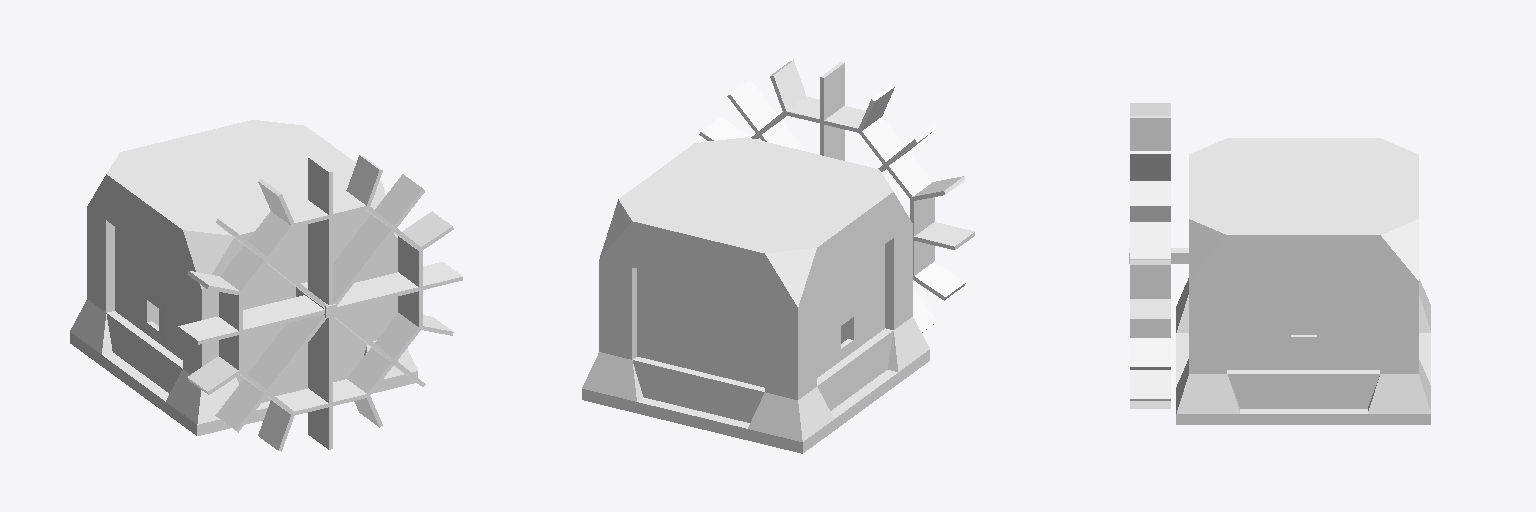
File: metal_extractor.obj
3 renders of one model, left to right at view 1: azimuth 30°, elevation 25°; view 2: azimuth 150°, elevation 25°; view 3: azimuth 270°, elevation 25°, orthographic.
Visible parts, largest first — view 1: Frame, WaterWheel, Input; view 2: Frame, WaterWheel, Input; view 3: Frame, WaterWheel, Output.
Boxes of the visible parts, <box> form: Frame: <box>70,120,417,435</box>; WaterWheel: <box>178,155,462,451</box>; Input: <box>140,284,165,347</box>; Frame: <box>582,137,929,453</box>; WaterWheel: <box>699,60,974,332</box>; Input: <box>834,301,859,365</box>; Frame: <box>1176,138,1430,424</box>; WaterWheel: <box>1130,103,1170,408</box>; Output: <box>1278,324,1328,369</box>.
Size of the model in its own units: 6 by 6 by 5.94.